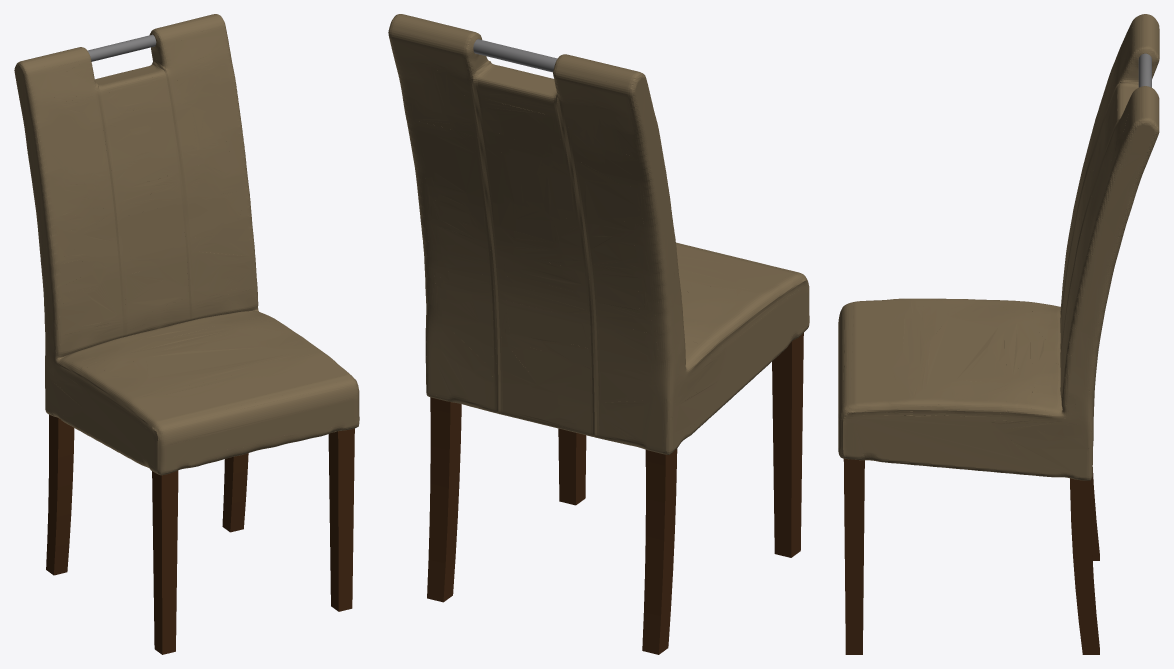
The model's file is chair 1.fbx.
The picture shows the model from 3 angles, left to right: view 1: azimuth 30°, elevation 25°; view 2: azimuth 150°, elevation 25°; view 3: azimuth 270°, elevation 25°; orthographic projection. The views are drawn at different scales.
Parts seen in each view (by area): view 1: chair; view 2: chair; view 3: chair.
Boxes of the visible parts, x1=… form: chair: x1=14, y1=14, x2=359, y2=654; chair: x1=388, y1=14, x2=809, y2=654; chair: x1=838, y1=14, x2=1159, y2=654.
Size of the model in its own units: 86.68 by 108 by 200.
